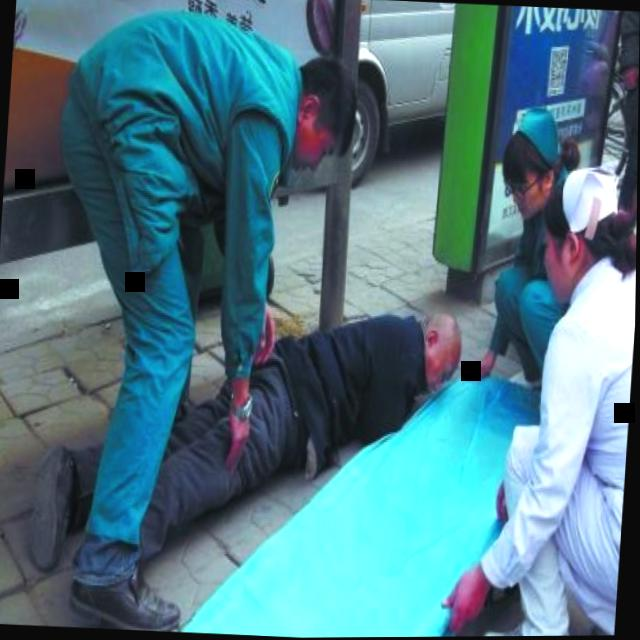Fall-Detected: (9, 272, 490, 619)
